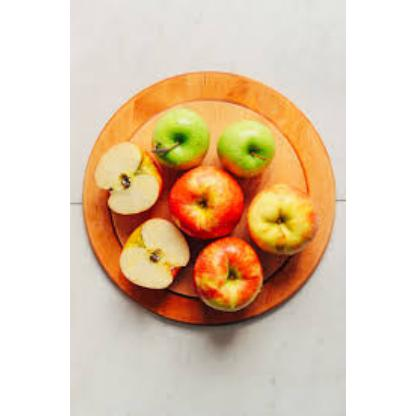apple: (247, 184, 321, 256), (169, 164, 247, 232), (195, 236, 264, 308), (152, 108, 214, 164), (214, 118, 276, 172)
damaged_apple: (112, 218, 186, 288), (97, 144, 159, 216)
